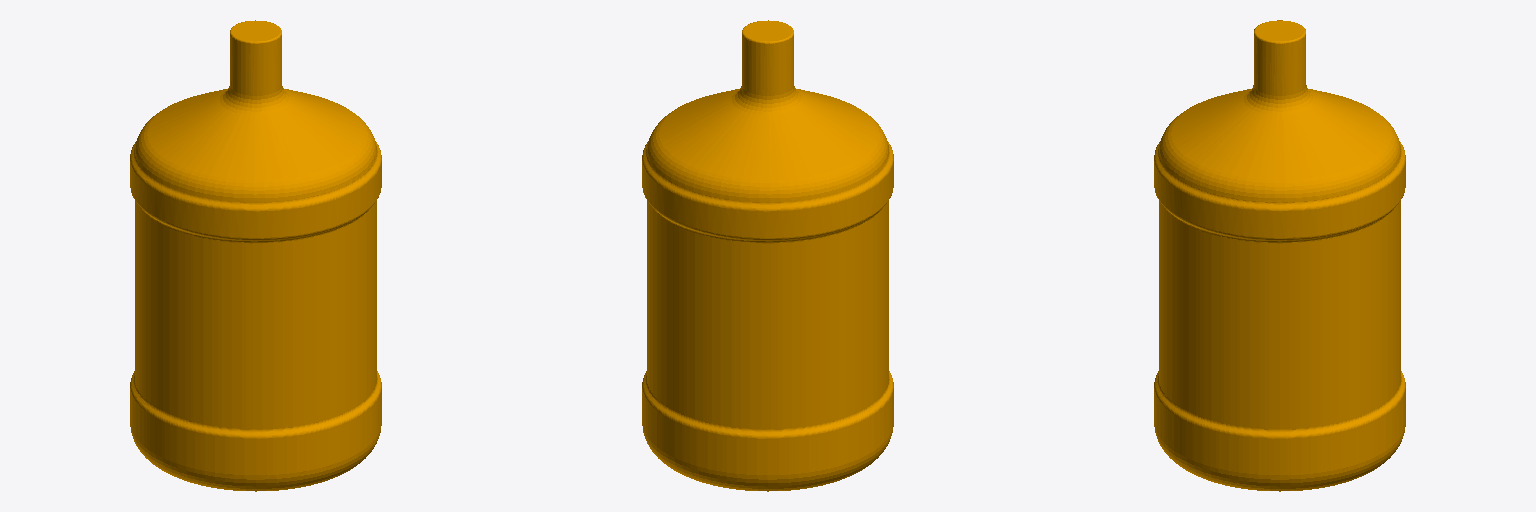
The robot description file, URDF, robot "jug_5_gallon":
<?xml version="1.0"?>
<!-- This is a model of an empty 5-gallon water jug.
The mesh was created on 01/16/2024 by Aimee Goncalves.
The collision geometries does not include ridges.-->
<robot name="jug_5_gallon">
  <!-- The moment of inertia is for a solid cylinder  -->
  <!-- with uniform density. -->
  <link name="jug">
    <inertial>
      <mass value="0.8"/>
      <origin rpy="0 0 0" xyz="0 0 0"/>
      <inertia ixx="0.014" ixy="0" ixz="0" iyy="0.014" iyz="0" izz="0.006"/>
    </inertial>
    <visual name="jug_visual">
      <origin rpy="0 0 0" xyz="0 0 0"/>
      <geometry>
        <mesh filename="meshes/water-bottle-5gal-detail-full-9608.obj"/>
      </geometry>
    </visual>
    <collision name="jug_bottom_collision">
      <origin rpy="0 0 0" xyz="0 0 -0.0535"/>
      <geometry>
        <cylinder radius="0.13" length="0.363"/>
      </geometry>
    </collision>
    <collision name="jug_middle_collision">
      <origin rpy="0 0 0" xyz="0 0 0"/>
      <geometry>
        <mesh filename="meshes/jug_water_5_gallon_plain_mid_208.obj"/>
      </geometry>
    </collision>
    <collision name="jug_top_collision">
      <origin rpy="0 0 0" xyz="0 0 0.218"/>
      <geometry>
        <cylinder radius="0.0285" length="0.077"/>
      </geometry>
    </collision>
  </link>
</robot>

--- Render facts (derived) ---
The picture shows the robot from 3 angles, left to right: view 1: azimuth 30°, elevation 25°; view 2: azimuth 150°, elevation 25°; view 3: azimuth 270°, elevation 25°; orthographic projection.
Robot: jug_5_gallon — 1 links, 0 joints (none); root link jug; default pose: all joints at 0.
Visible links, largest first — view 1: jug; view 2: jug; view 3: jug.
Boxes of the visible links, <box> form: jug: <box>130,20,381,491</box>; jug: <box>642,20,893,491</box>; jug: <box>1154,20,1405,491</box>.
Size in the robot's own frame: 0.269 by 0.2689 by 0.4914 metres.
1 mesh visuals loaded from 1 distinct referenced files (1 OBJ).
